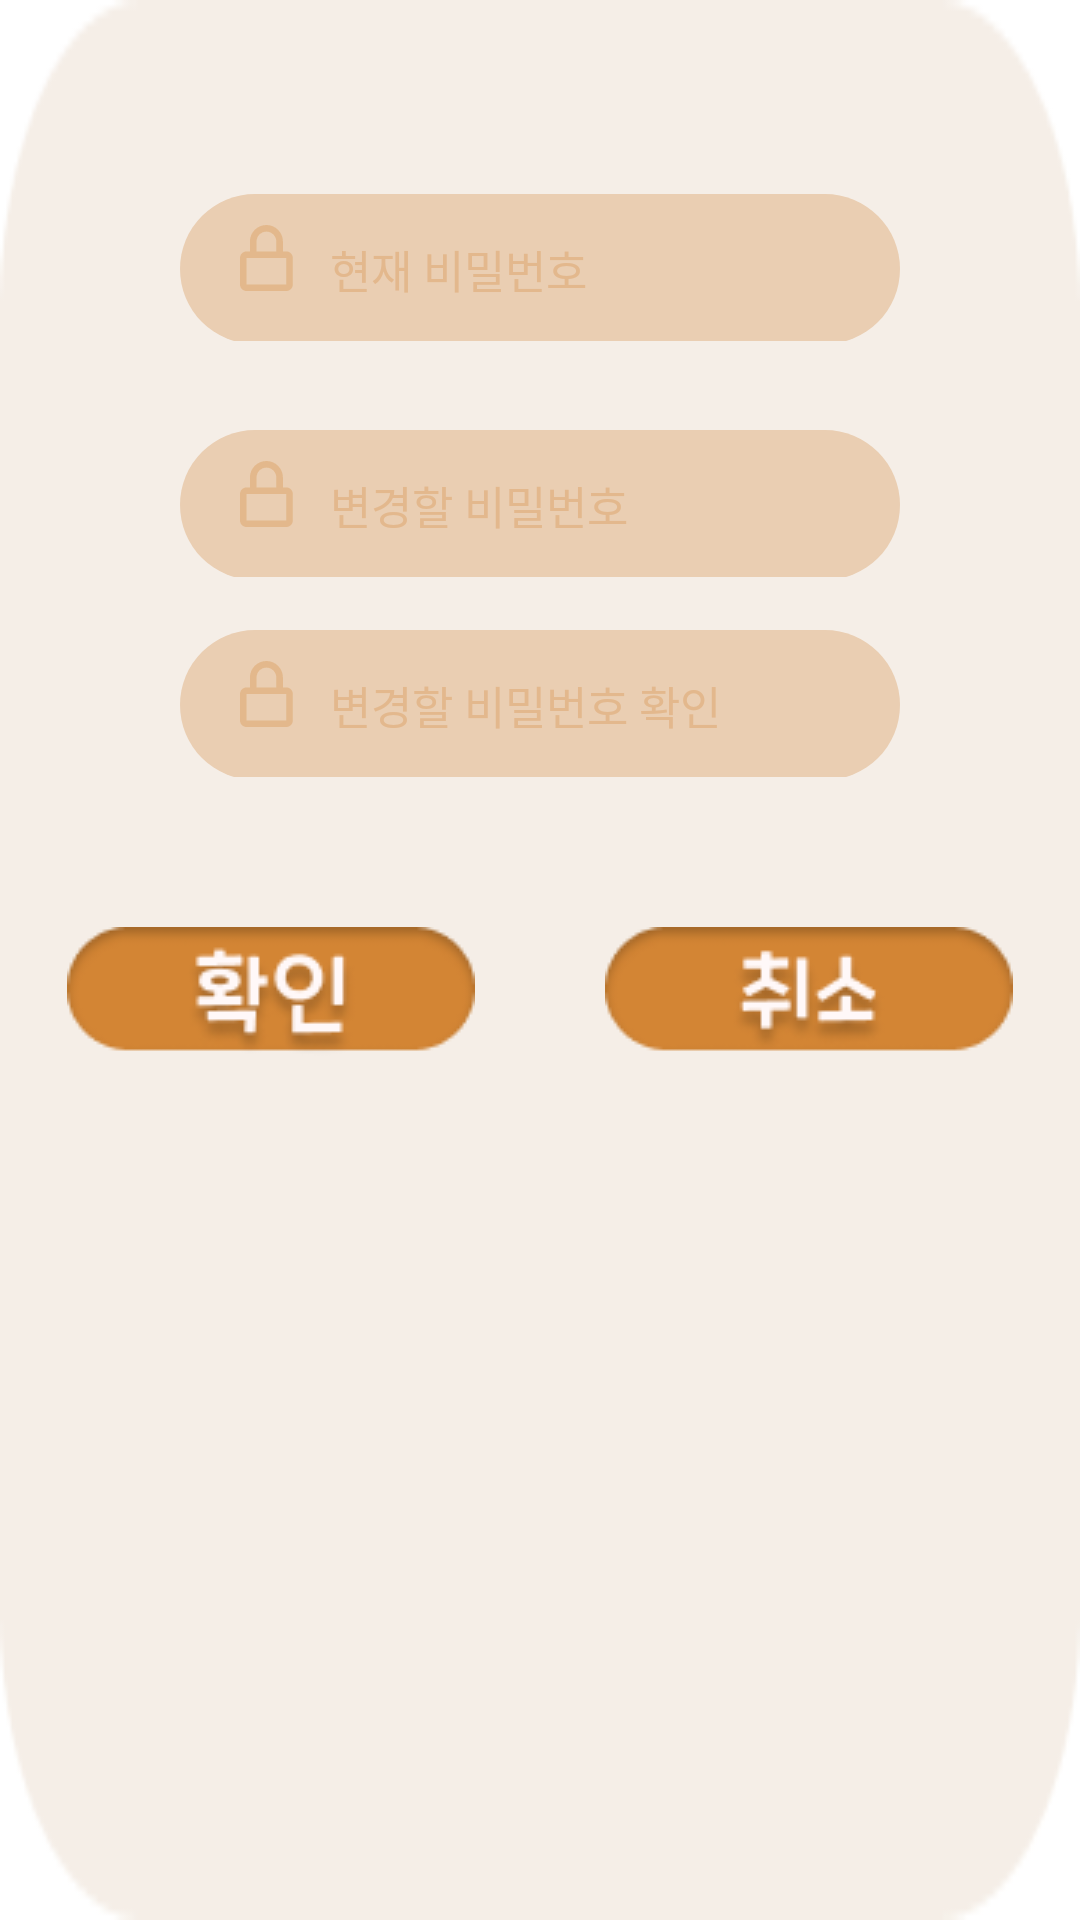

Named icons in this screenshot (1080*1920) and their centers, [x,y]:
login pw: [266,258], [266,494], [266,694]
